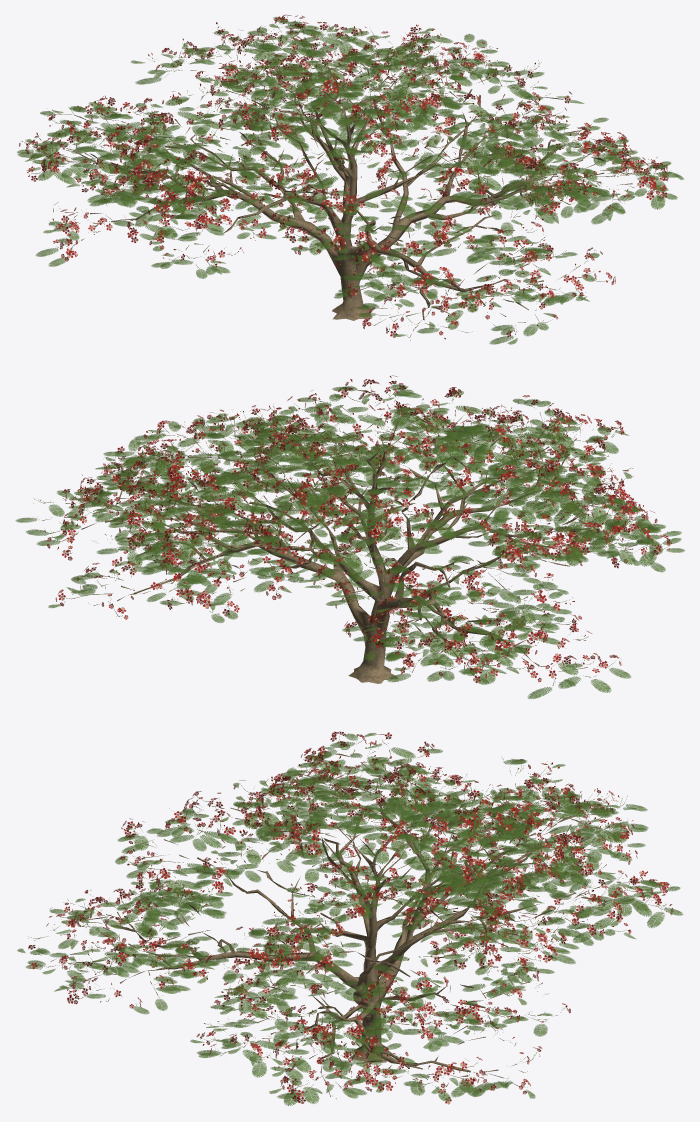
File: poinciana.glb
3 views of the same model, one above another, from view 1: azimuth 30°, elevation 25°; view 2: azimuth 150°, elevation 25°; view 3: azimuth 270°, elevation 25° (orthographic). The views are drawn at different scales.
Parts seen in each view (by area): view 1: Delonix_regia_HD_Delonix_leaf_01_0, Delonix_regia_HD_Delonix_trunk_0, Delonix_regia_HD_Delonix_flower_01_0, Delonix_regia_HD_Delonix_flower_02_0, Delonix_regia_HD_Delonix_stalk_0, Delonix_regia_HD_Delonix__flower_bud_04_0; view 2: Delonix_regia_HD_Delonix_leaf_01_0, Delonix_regia_HD_Delonix_flower_01_0, Delonix_regia_HD_Delonix_trunk_0, Delonix_regia_HD_Delonix_flower_02_0, Delonix_regia_HD_Delonix_stalk_0, Delonix_regia_HD_Delonix__flower_bud_04_0, Delonix_regia_HD_Delonix_twig_0; view 3: Delonix_regia_HD_Delonix_leaf_01_0, Delonix_regia_HD_Delonix_flower_01_0, Delonix_regia_HD_Delonix_trunk_0, Delonix_regia_HD_Delonix_flower_02_0, Delonix_regia_HD_Delonix_stalk_0, Delonix_regia_HD_Delonix__flower_bud_04_0, Delonix_regia_HD_Delonix_twig_0.
Boxes of the visible parts, bbox=[...] form: Delonix_regia_HD_Delonix_leaf_01_0: bbox=[17, 17, 683, 344]; Delonix_regia_HD_Delonix_trunk_0: bbox=[32, 26, 664, 336]; Delonix_regia_HD_Delonix_flower_01_0: bbox=[25, 14, 668, 337]; Delonix_regia_HD_Delonix_flower_02_0: bbox=[19, 15, 660, 335]; Delonix_regia_HD_Delonix_stalk_0: bbox=[24, 20, 670, 337]; Delonix_regia_HD_Delonix__flower_bud_04_0: bbox=[22, 19, 660, 339]; Delonix_regia_HD_Delonix_leaf_01_0: bbox=[15, 384, 684, 699]; Delonix_regia_HD_Delonix_flower_01_0: bbox=[58, 375, 668, 683]; Delonix_regia_HD_Delonix_trunk_0: bbox=[42, 390, 660, 685]; Delonix_regia_HD_Delonix_flower_02_0: bbox=[47, 379, 671, 681]; Delonix_regia_HD_Delonix_stalk_0: bbox=[36, 384, 667, 687]; Delonix_regia_HD_Delonix__flower_bud_04_0: bbox=[40, 376, 669, 679]; Delonix_regia_HD_Delonix_twig_0: bbox=[50, 403, 653, 675]; Delonix_regia_HD_Delonix_leaf_01_0: bbox=[17, 733, 683, 1105]; Delonix_regia_HD_Delonix_flower_01_0: bbox=[28, 731, 673, 1104]; Delonix_regia_HD_Delonix_trunk_0: bbox=[33, 741, 661, 1096]; Delonix_regia_HD_Delonix_flower_02_0: bbox=[46, 732, 671, 1094]; Delonix_regia_HD_Delonix_stalk_0: bbox=[28, 736, 668, 1094]; Delonix_regia_HD_Delonix__flower_bud_04_0: bbox=[28, 731, 671, 1086]; Delonix_regia_HD_Delonix_twig_0: bbox=[68, 754, 615, 1089].
Size of the model in its own units: 11.2 by 4.72 by 11.09.
9 materials, 8 textured.
